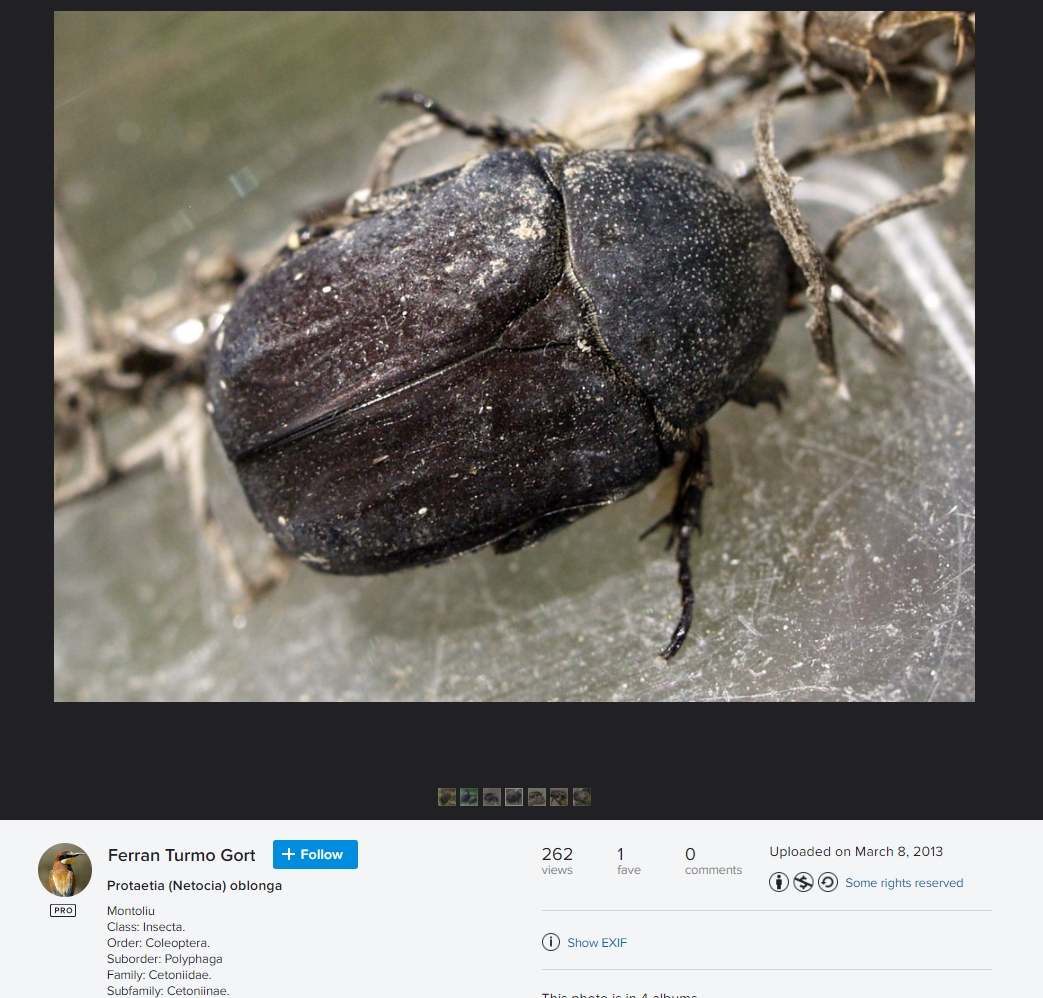Protaetia_oblonga: (210, 80, 827, 658)
